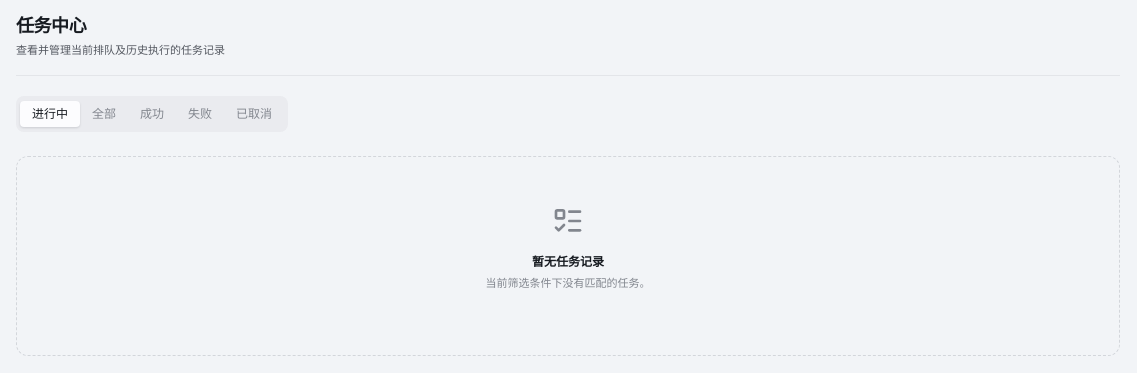
Test: 历史任务的完成态展示 › 把成功任务遗留的 Chrome 关闭进度显示为完成
Click the tab "成功" at (152, 114), box [128, 101, 176, 127]
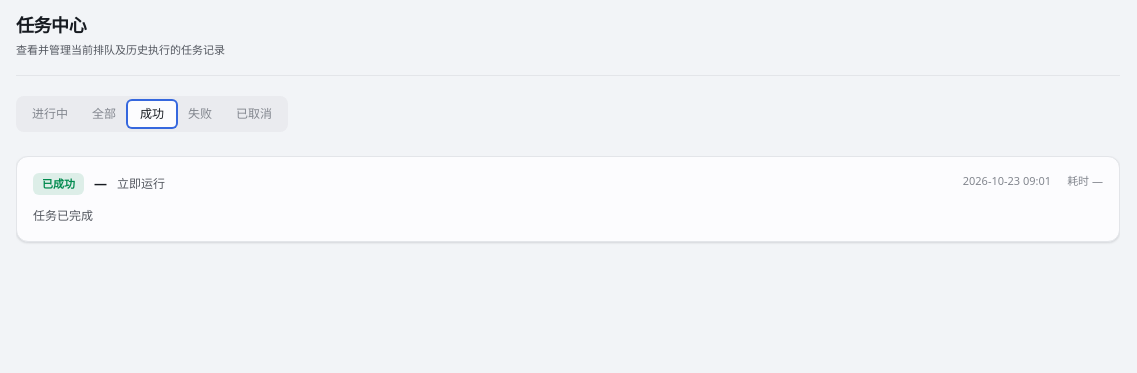
Now the text "任务已完成" is shown, box [33, 207, 93, 224]
